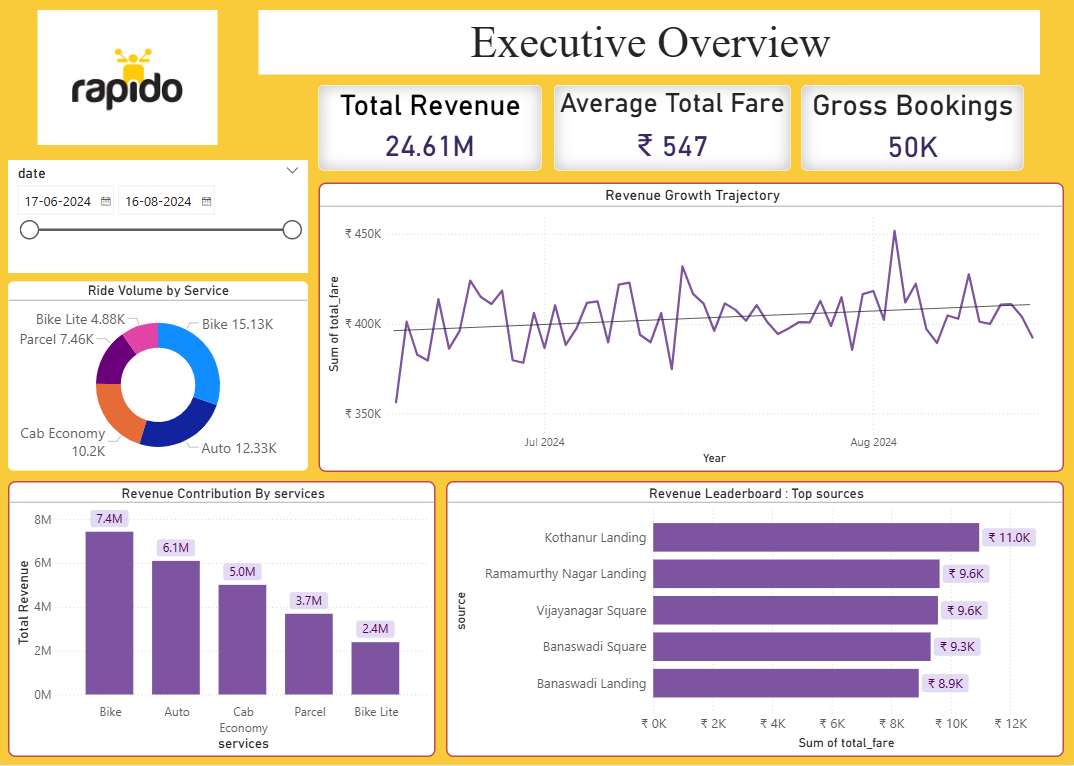

The page's visual inventory and layout, read from the dashboard file:
{"tool":"powerbi","page":{"name":"Page 1","canvas":[1440,1024],"ordinal":0},"visuals":[{"type":"card","title":"Total Revenue","fields":{"Values":["rides_data.Total Revenue"]},"box":[430,116,297,114],"z":0},{"type":"card","title":"Average Total Fare","fields":{"Values":["Avg(rides_data.total_fare)"]},"box":[744,116,315,114],"z":1000},{"type":"lineChart","title":"Revenue Growth Trajectory","fields":{"Y":["Sum(rides_data.total_fare)"],"Category":["rides_data.date.Variation.Date Hierarchy.Year","rides_data.date.Variation.Date Hierarchy.Quarter","rides_data.date.Variation.Date Hierarchy.Month","rides_data.date.Variation.Date Hierarchy.Day"]},"box":[430,246,994,386],"z":2000},{"type":"clusteredBarChart","title":"Revenue Leaderboard : Top sources","fields":{"Category":["rides_data.source"],"Y":["Sum(rides_data.total_fare)"]},"box":[600,644,824,368],"z":3000},{"type":"slicer","fields":{"Values":["rides_data.date"]},"box":[16,216,400,150],"z":4000},{"type":"card","title":"Gross Bookings","fields":{"Values":["CountNonNull(rides_data.ride_id)"]},"box":[1074,116,296,114],"z":5000},{"type":"donutChart","title":"Ride Volume by Service ","fields":{"Category":["rides_data.services"],"Y":["CountNonNull(rides_data.ride_id)"]},"box":[16,378,400,252],"z":6000},{"type":"image","box":[0,16,350,180],"z":7000},{"type":"clusteredColumnChart","title":"Revenue Contribution By services","fields":{"Category":["rides_data.services"],"Y":["rides_data.Total Revenue"]},"box":[16,644,570,368],"z":8000},{"type":"textbox","box":[350,16,1042,86],"z":9000}]}

Visuals, with their boxes in screenshot pixels (x1, y1, x2, y2), scaled from the page's 1440x1024 canvas onto the 1074x766 screenshot:
"Total Revenue" card: left=321, top=87, right=542, bottom=172
"Average Total Fare" card: left=555, top=87, right=790, bottom=172
"Revenue Growth Trajectory" lineChart: left=321, top=184, right=1062, bottom=473
"Revenue Leaderboard : Top sources" clusteredBarChart: left=448, top=482, right=1062, bottom=757
slicer - rides_data.date: left=12, top=162, right=310, bottom=274
"Gross Bookings" card: left=801, top=87, right=1022, bottom=172
"Ride Volume by Service " donutChart: left=12, top=283, right=310, bottom=471
image: left=0, top=12, right=261, bottom=147
"Revenue Contribution By services" clusteredColumnChart: left=12, top=482, right=437, bottom=757
textbox: left=261, top=12, right=1038, bottom=76
